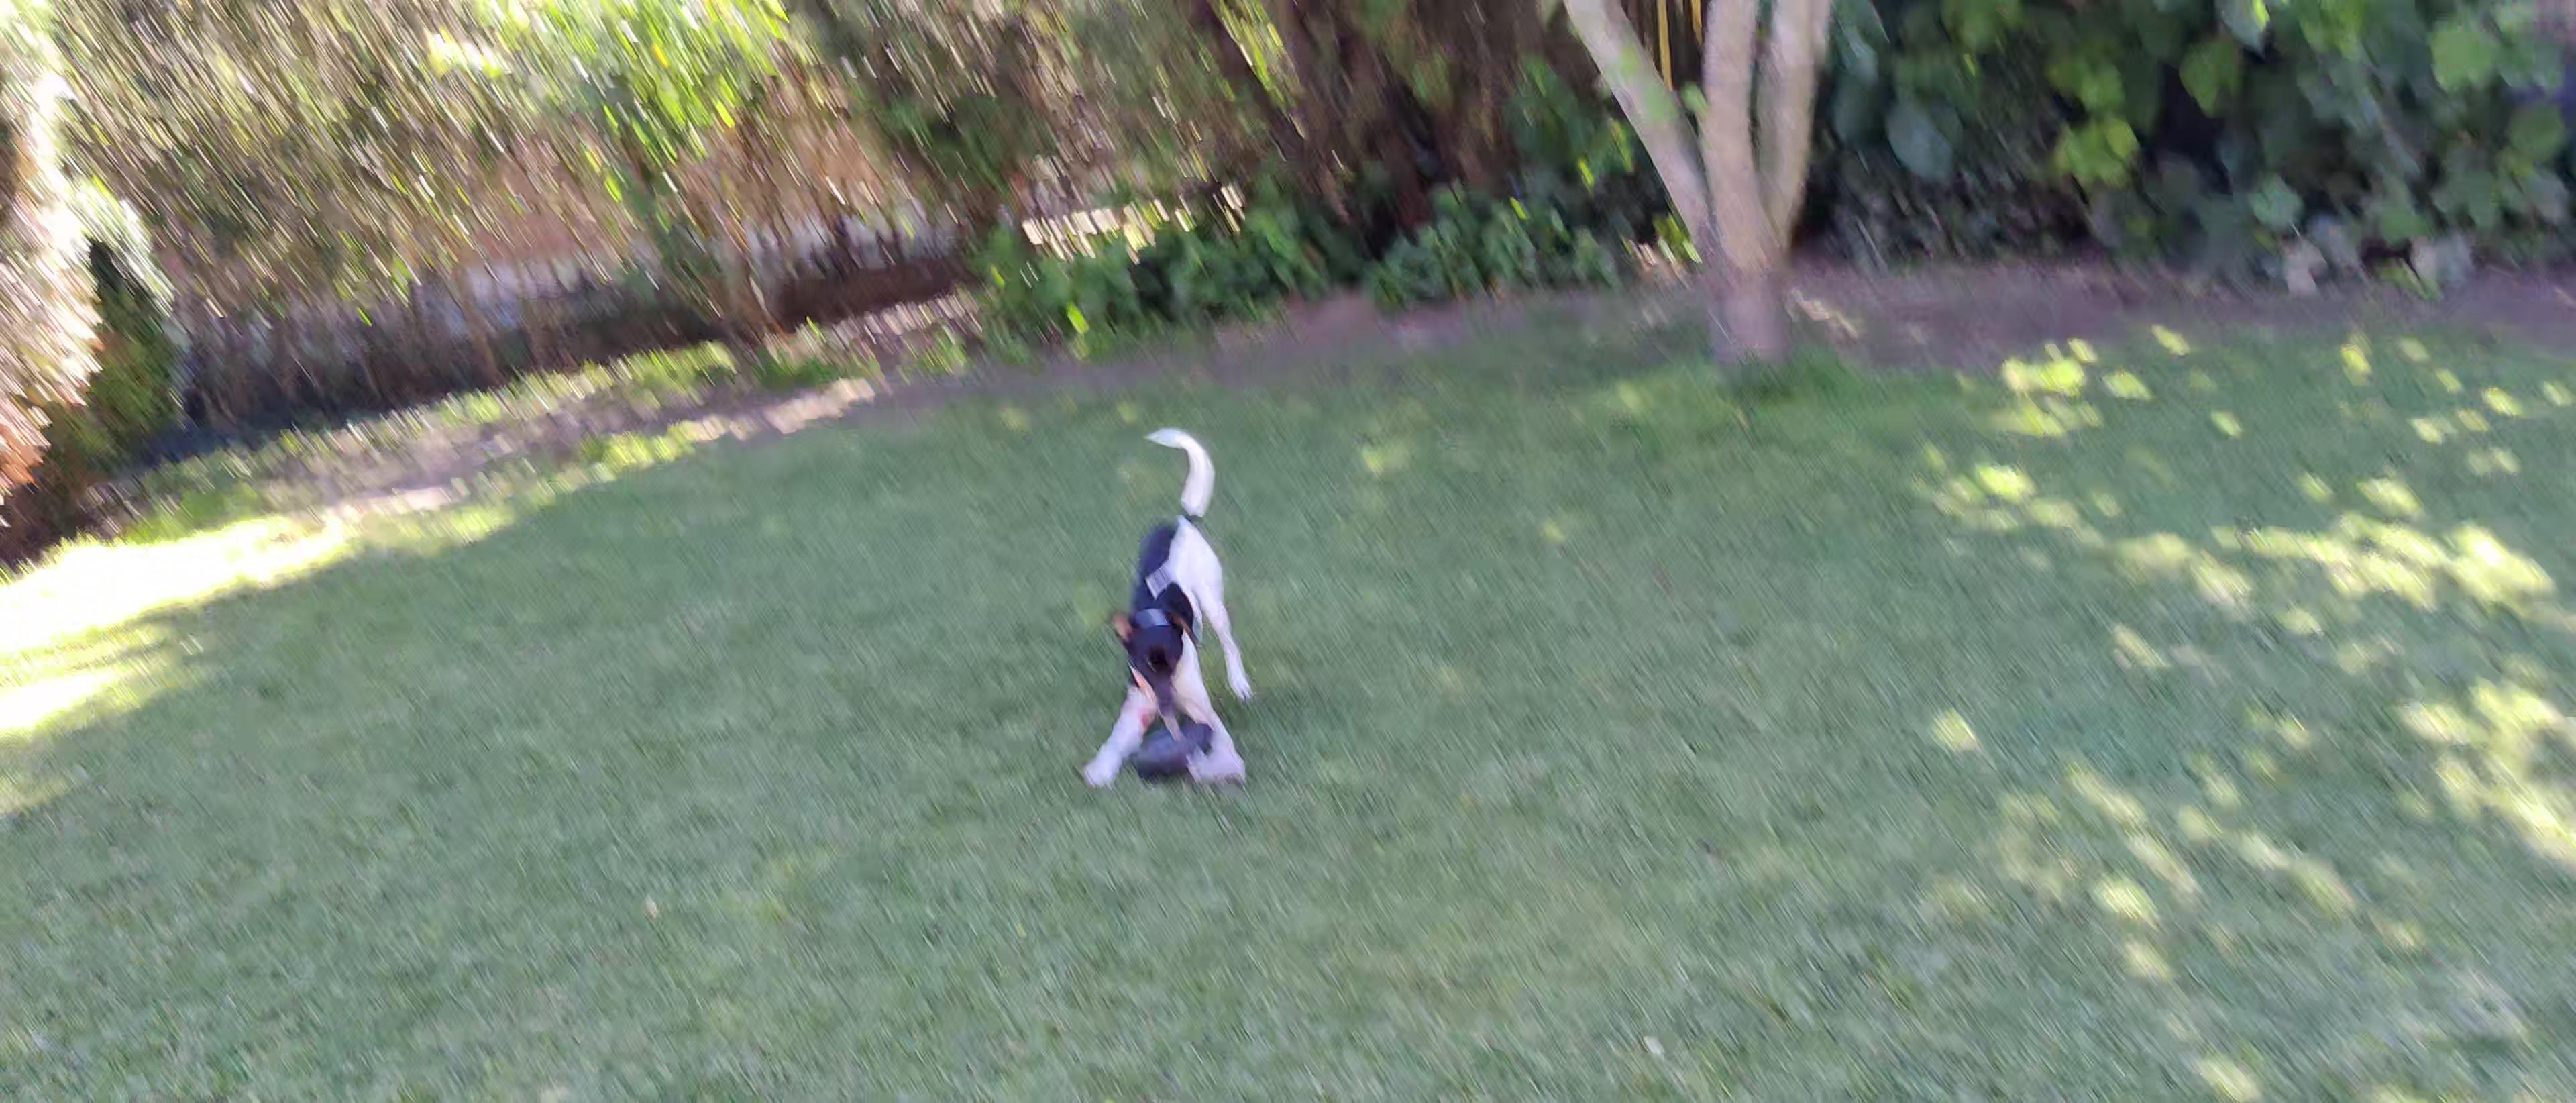Dog: (1071, 422, 1263, 787)
